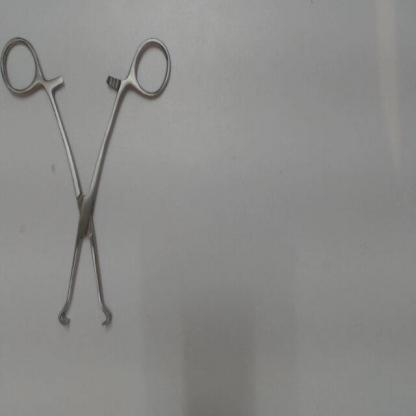Babcock Tissue Forceps: (2, 33, 174, 333)
